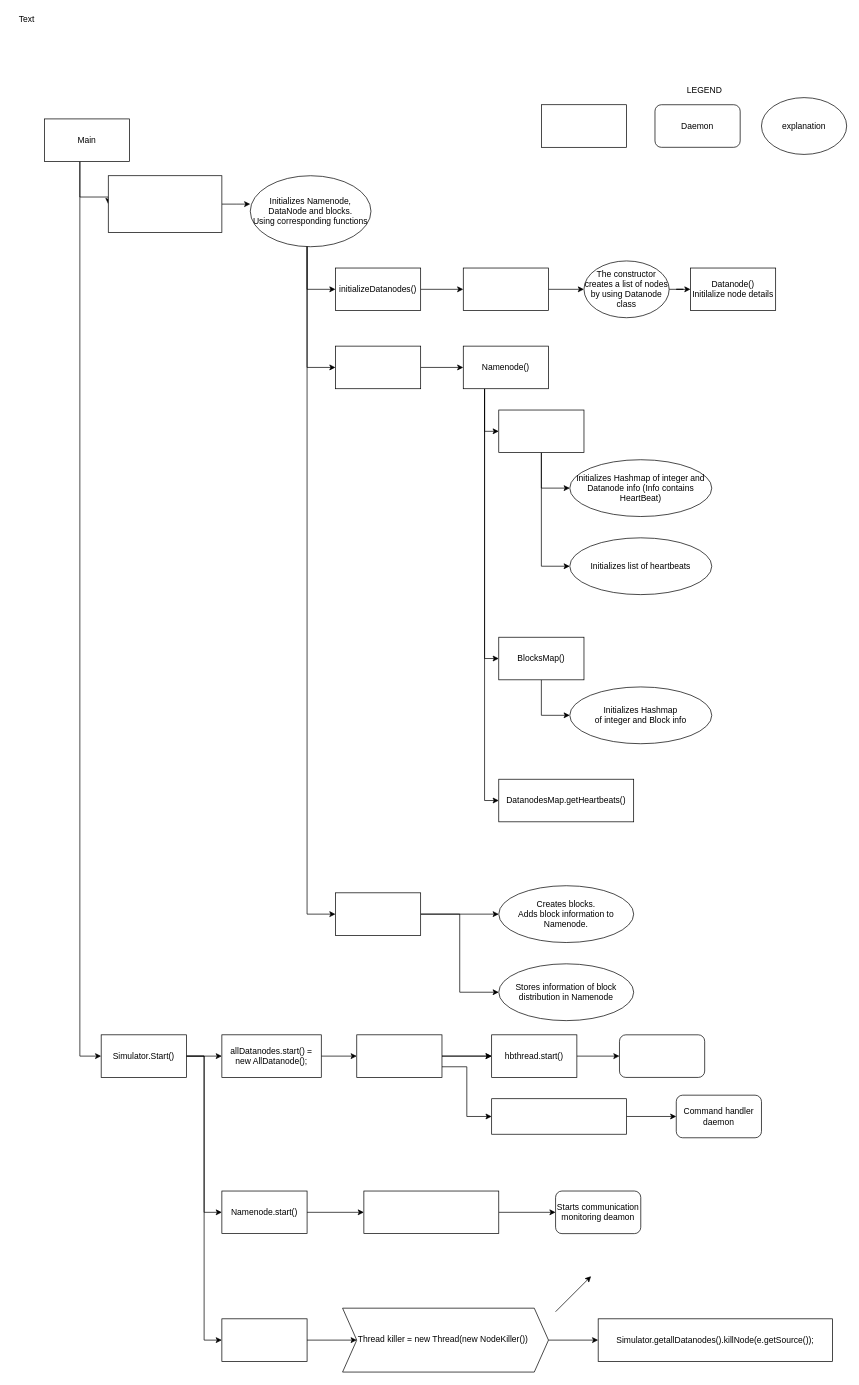
This 859x1385 diagram has some shape labels left out. The box of each missing label's shape, as (x1, y1, x2, y2) in pixels:
AllDatanode(): (463, 267, 548, 311)
commandsthread.start(): (491, 1098, 627, 1134)
communicationthread.start(): (363, 1190, 499, 1234)
DatanodesMap(): (498, 409, 584, 453)
Function call: (541, 104, 627, 147)
initializeBlocks(): (335, 892, 421, 935)
initializeNamnode(): (335, 345, 421, 389)
new AllDatanode();: (356, 1034, 442, 1077)
Simulator.init(ConfigFile): (108, 175, 222, 233)
StartFailure(): (221, 1318, 307, 1361)
Starts heartbeat sender daemon: (619, 1034, 705, 1077)
